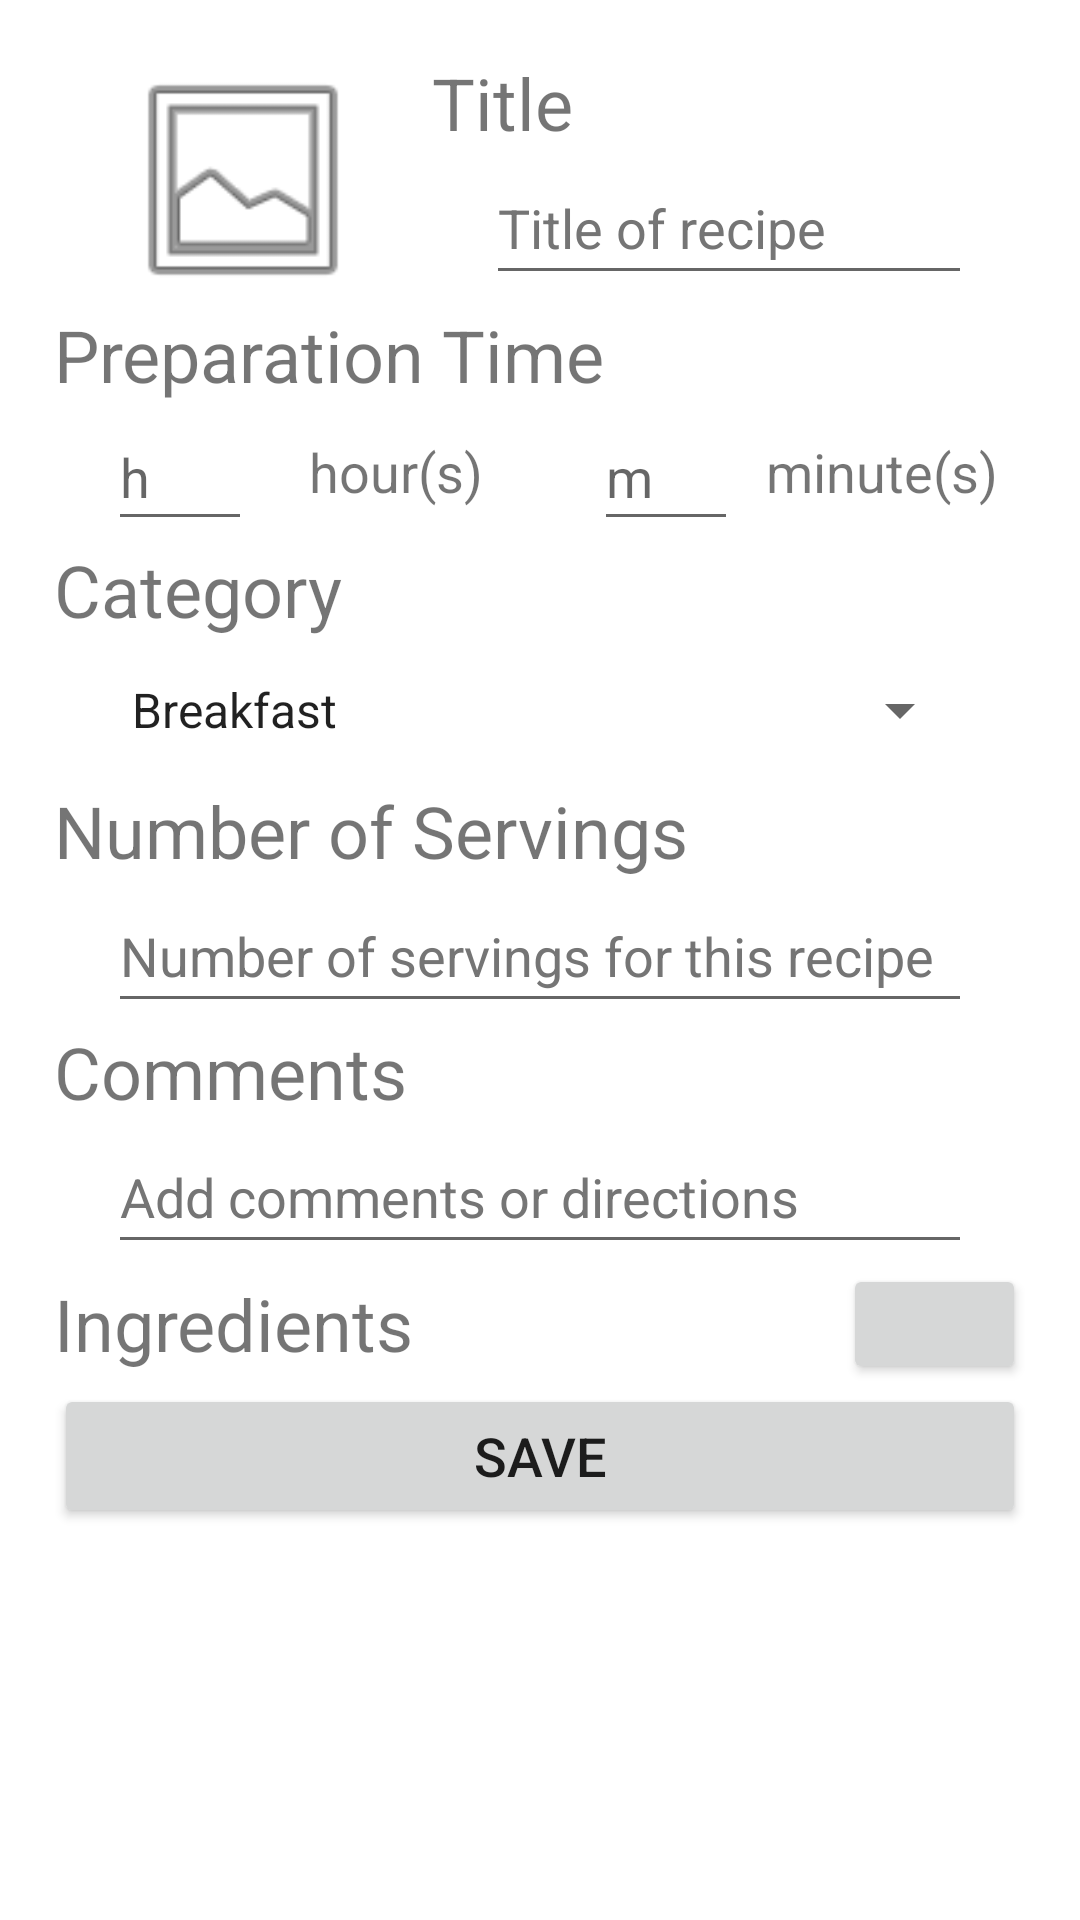

Icons on this 1080px×1920px Android screen, each with the point to tap as [x,y]:
gallery: [243,180]
